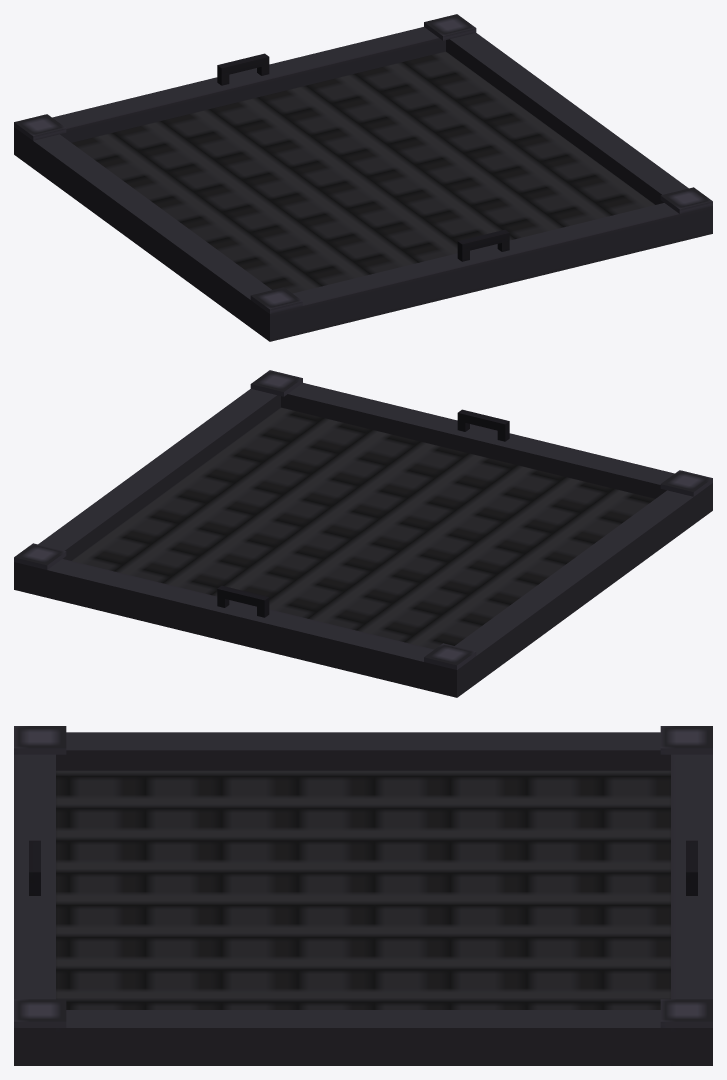
Rendered from DeckGrate.obj.
3 views of the same model, one above another, from view 1: azimuth 30°, elevation 25°; view 2: azimuth 150°, elevation 25°; view 3: azimuth 270°, elevation 25° (orthographic). The views are drawn at different scales.
Parts seen in each view (by area): view 1: DeckGrate; view 2: DeckGrate; view 3: DeckGrate.
Boxes of the visible parts, x1,y1,x2,y2 form: DeckGrate: (14, 14, 712, 341); DeckGrate: (14, 370, 712, 697); DeckGrate: (14, 726, 712, 1065).
Size of the model in its own units: 2 by 0.195 by 2.
Materials: 1 (1 with a texture image).
